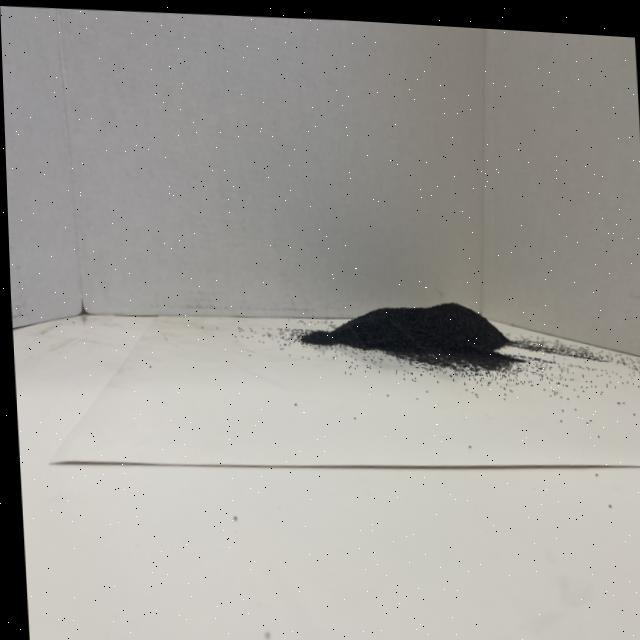Poppy Seeds: (300, 256, 548, 408)
